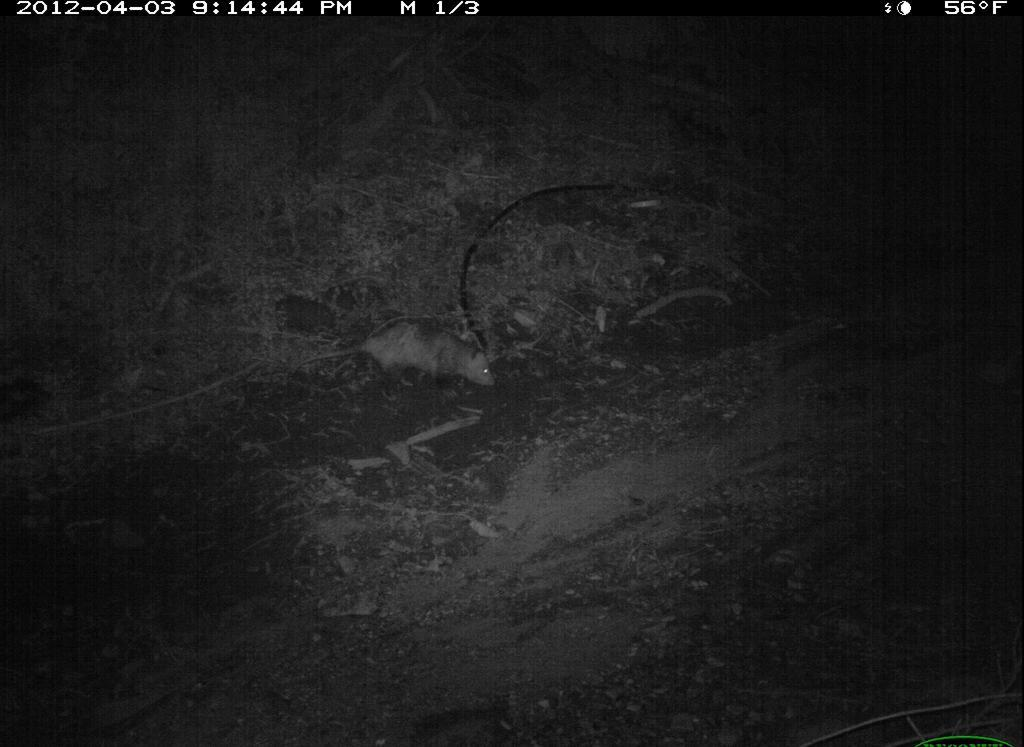opossum: (285, 323, 505, 406)
